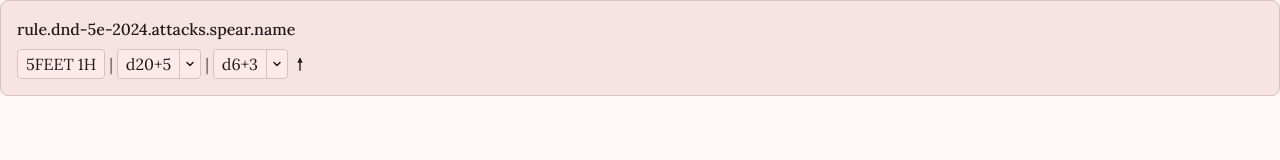
Test case: PanelRenderer - versatile weapon (spear) › cycles to "20FEET" (no label) for thrown range
Click the button "5FEET 1H" at {"x": 61, "y": 64}, box [17,49,105,79]
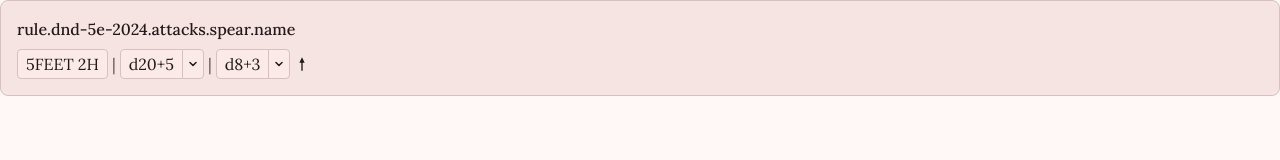
Click the button "5FEET 2H" at {"x": 62, "y": 64}, box [17,49,108,79]
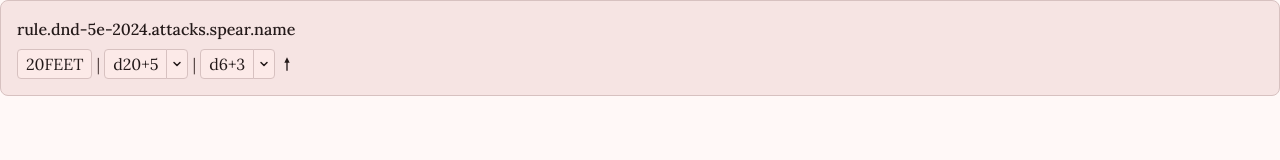
Check: the text "20FEET" is shown, box [17,49,92,79]
